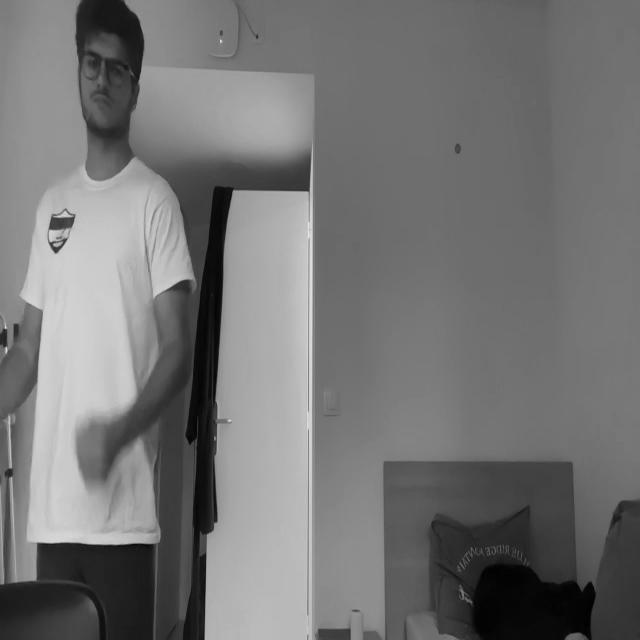elbow: (165, 338, 194, 388), (14, 338, 37, 381)
hand: (76, 416, 115, 489)
shoulder: (145, 180, 184, 256), (34, 192, 47, 254)
